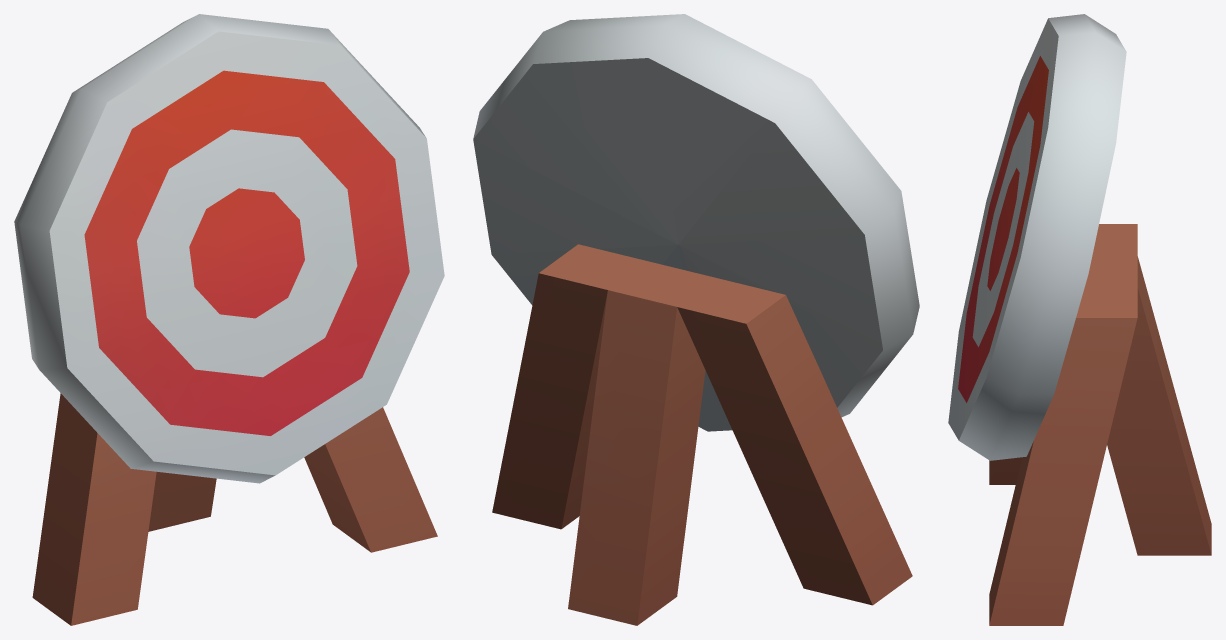
File: target.glb
3 renders of one model, left to right at view 1: azimuth 30°, elevation 25°; view 2: azimuth 150°, elevation 25°; view 3: azimuth 270°, elevation 25°, orthographic. The views are drawn at different scales.
Parts seen in each view (by area): view 1: target; view 2: target; view 3: target.
Part boxes in pixels (x1,y1,x2,y2): target: (14,14,444,625); target: (473,14,919,625); target: (948,14,1211,625).
Bounding box in the file's own units: 0.2393 × 0.3018 × 0.1421.
1 material, 1 textured.
